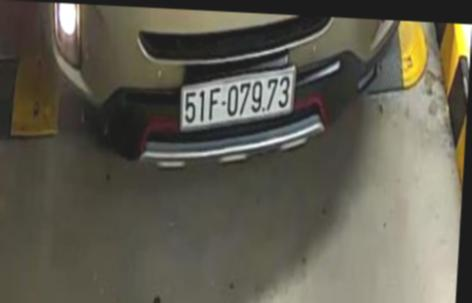License_Plate: (173, 67, 303, 137)
